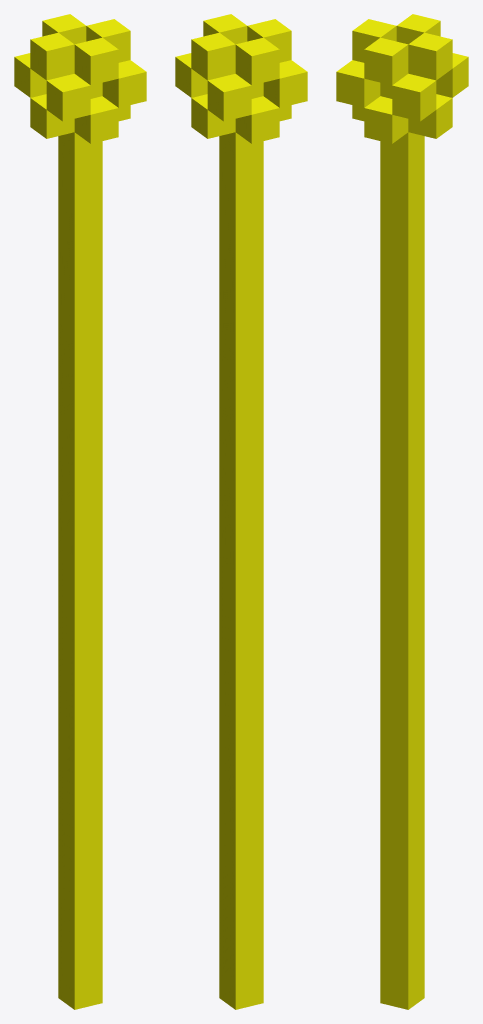
Rendered from voxel-cathedral-staff.glb.
3 views of the same model, side by side, from view 1: azimuth 30°, elevation 25°; view 2: azimuth 210°, elevation 25°; view 3: azimuth 330°, elevation 25° (orthographic).
Visible parts, largest first — view 1: VS_Cathedral_Props_Staff_001; view 2: VS_Cathedral_Props_Staff_001; view 3: VS_Cathedral_Props_Staff_001.
Boxes of the visible parts, x1,y1,x2,y2 form: VS_Cathedral_Props_Staff_001: (14,14,146,1009); VS_Cathedral_Props_Staff_001: (175,14,307,1009); VS_Cathedral_Props_Staff_001: (336,14,468,1009).
Size of the model in its own units: 0.3001 by 3.3 by 0.3001.
